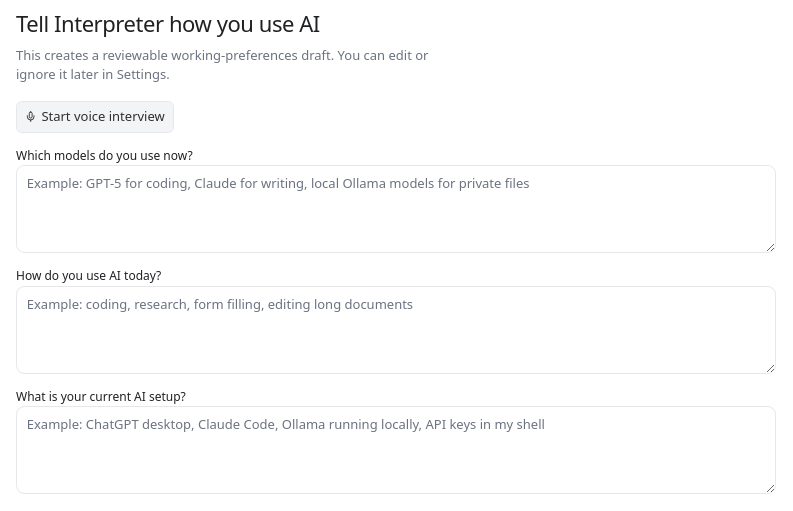
Test: AiSetupScreen › retries while the overlay service is still starting
The image size is (793, 511).
Click the button "Start voice interview": x=95, y=117 [16,101,174,133]
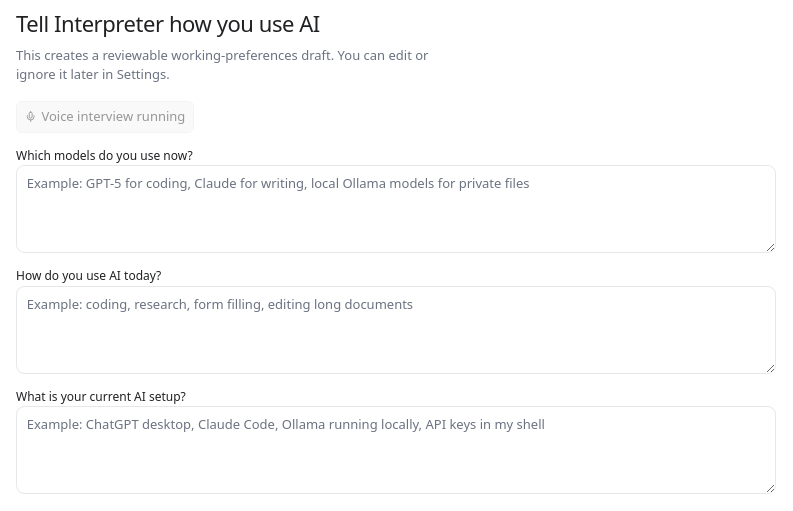
Now the button "Voice interview running" is disabled, box [16,101,194,133]
